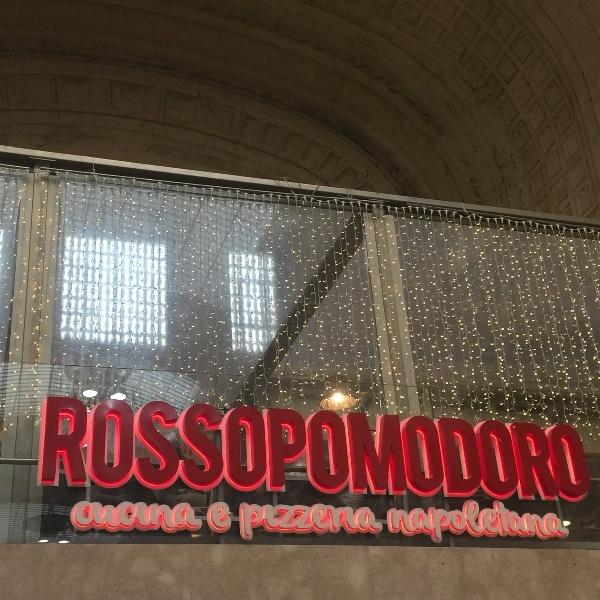text: (49, 394, 64, 505), (65, 394, 80, 505), (81, 394, 96, 505), (97, 394, 112, 505), (113, 394, 128, 505), (129, 394, 144, 505), (145, 394, 160, 505), (161, 394, 176, 505), (177, 394, 192, 505), (193, 394, 208, 505), (209, 394, 224, 505), (225, 394, 240, 505), (241, 394, 256, 505), (257, 394, 272, 505), (273, 394, 288, 505), (289, 394, 304, 505), (305, 394, 320, 505), (321, 394, 336, 505), (337, 394, 352, 505), (353, 394, 368, 505), (369, 394, 384, 505), (385, 394, 400, 505), (401, 394, 416, 505), (417, 394, 432, 505), (433, 394, 448, 505), (449, 394, 464, 505), (465, 394, 480, 505), (481, 394, 496, 505), (497, 394, 512, 505), (513, 394, 528, 505), (529, 394, 544, 505), (545, 394, 560, 505), (561, 394, 576, 505), (577, 394, 592, 505), (401, 500, 416, 547), (417, 500, 432, 547), (433, 500, 448, 547), (449, 500, 464, 547), (465, 500, 480, 547), (481, 500, 496, 547), (497, 500, 512, 547), (513, 500, 528, 547), (529, 500, 544, 547), (545, 500, 560, 547), (386, 500, 400, 547), (241, 502, 256, 541), (257, 502, 272, 541), (273, 502, 288, 541), (289, 502, 304, 541), (305, 502, 320, 541), (321, 502, 336, 541), (337, 502, 352, 541), (353, 502, 368, 541), (369, 502, 384, 541), (561, 500, 573, 547), (81, 499, 96, 534), (97, 499, 112, 534), (113, 499, 128, 534), (129, 499, 144, 534), (145, 499, 160, 534), (161, 499, 176, 534), (177, 499, 192, 534), (209, 501, 224, 535), (44, 394, 48, 505), (593, 394, 597, 505), (193, 499, 205, 534), (225, 501, 234, 535), (76, 499, 80, 534), (385, 502, 387, 541), (239, 502, 240, 541)
